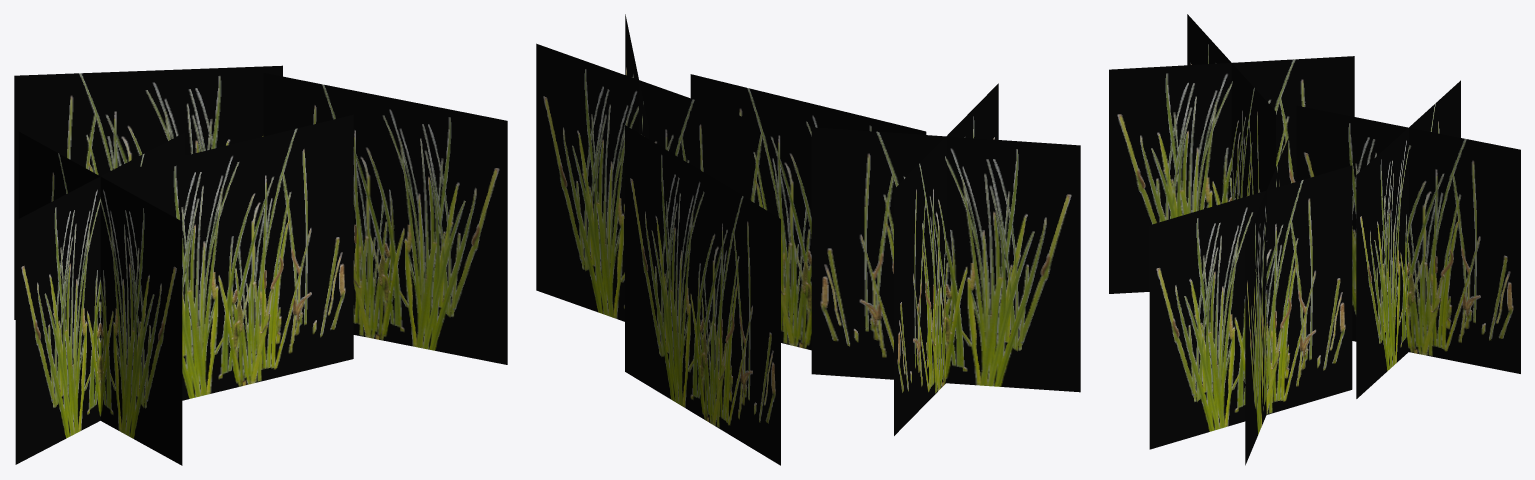
The model's file is grass3.fbx.
3 views of the same model, side by side, from view 1: azimuth 30°, elevation 25°; view 2: azimuth 150°, elevation 25°; view 3: azimuth 270°, elevation 25° (orthographic). The views are drawn at different scales.
Visible parts, largest first — view 1: Plane; view 2: Plane; view 3: Plane.
Boxes of the visible parts, x1,y1,x2,y2 form: Plane: (14,65,507,465); Plane: (536,14,1080,465); Plane: (1109,14,1520,465).
Bounding box in the file's own units: 2.68 × 1.24 × 2.05.
